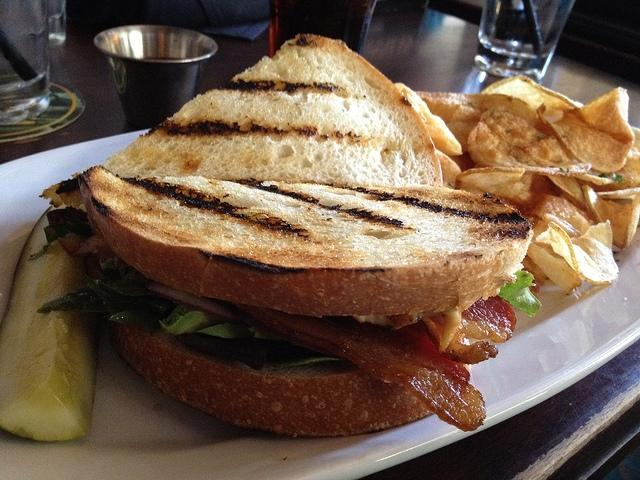lettuce: (159, 304, 280, 340), (497, 270, 541, 316)
